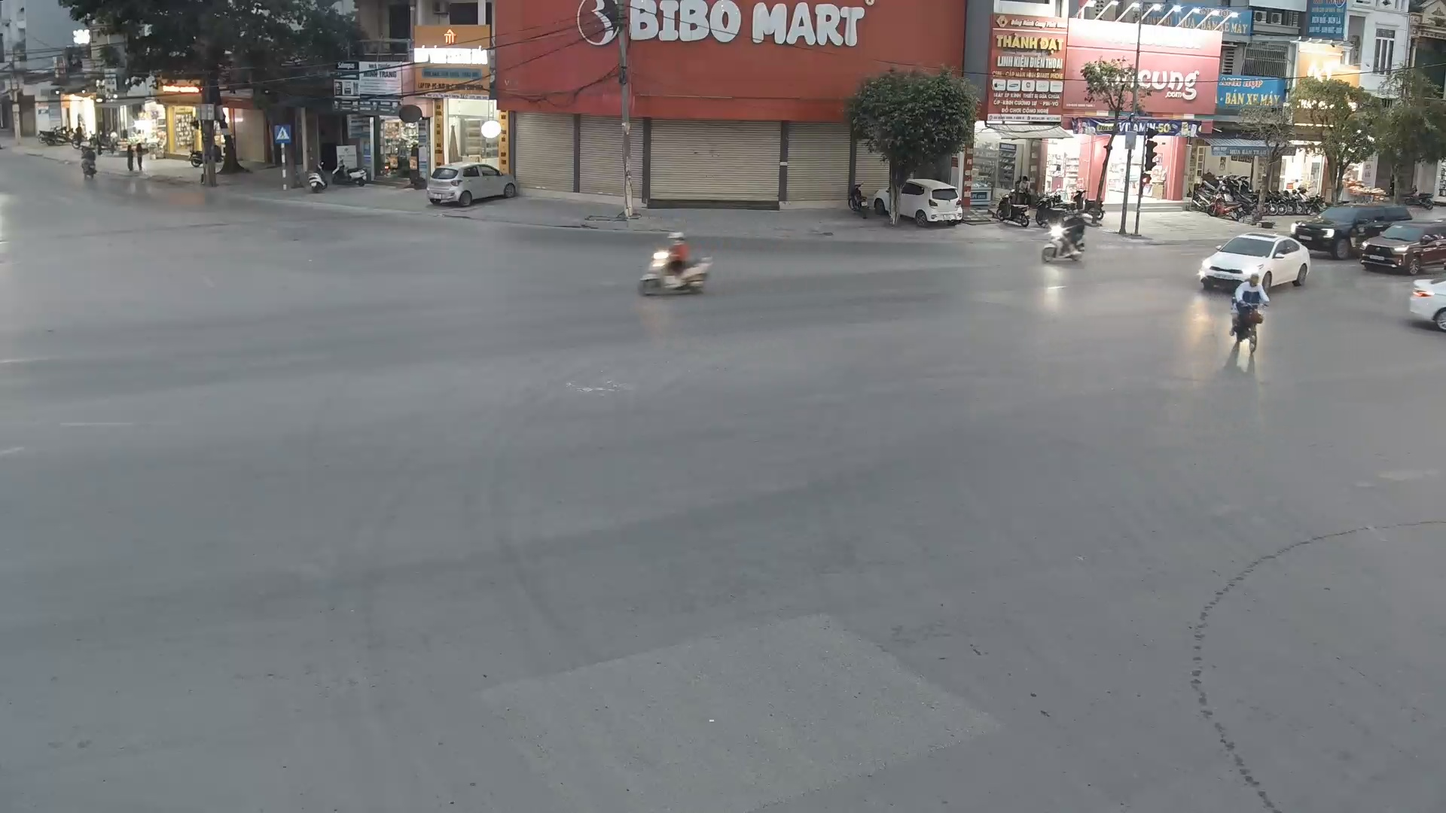car: (1289, 200, 1417, 262), (1198, 229, 1311, 292), (425, 162, 520, 210), (1361, 218, 1445, 272), (1403, 258, 1445, 340)
motorbike: (634, 231, 713, 298), (1224, 271, 1270, 373), (1034, 207, 1090, 270), (77, 135, 100, 184)
